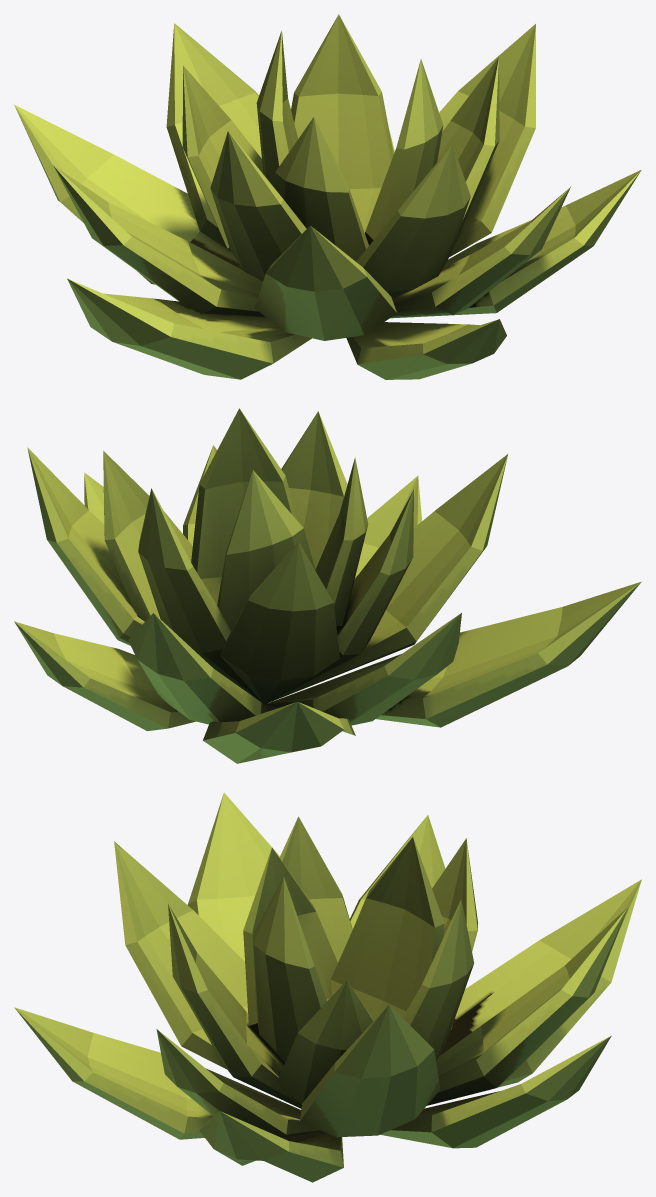
Rendered from Aloe plant.glb.
3 views of the same model, one above another, from view 1: azimuth 30°, elevation 25°; view 2: azimuth 150°, elevation 25°; view 3: azimuth 270°, elevation 25° (orthographic). The views are drawn at different scales.
Visible parts, largest first — view 1: aloe_plant; view 2: aloe_plant; view 3: aloe_plant.
Part boxes in pixels (left/top/right/bottom): aloe_plant: left=14, top=14, right=641, bottom=379; aloe_plant: left=14, top=408, right=641, bottom=763; aloe_plant: left=14, top=792, right=641, bottom=1182.
Bounding box in the file's own units: 2 × 0.9071 × 1.84.
1 material, 1 textured.
